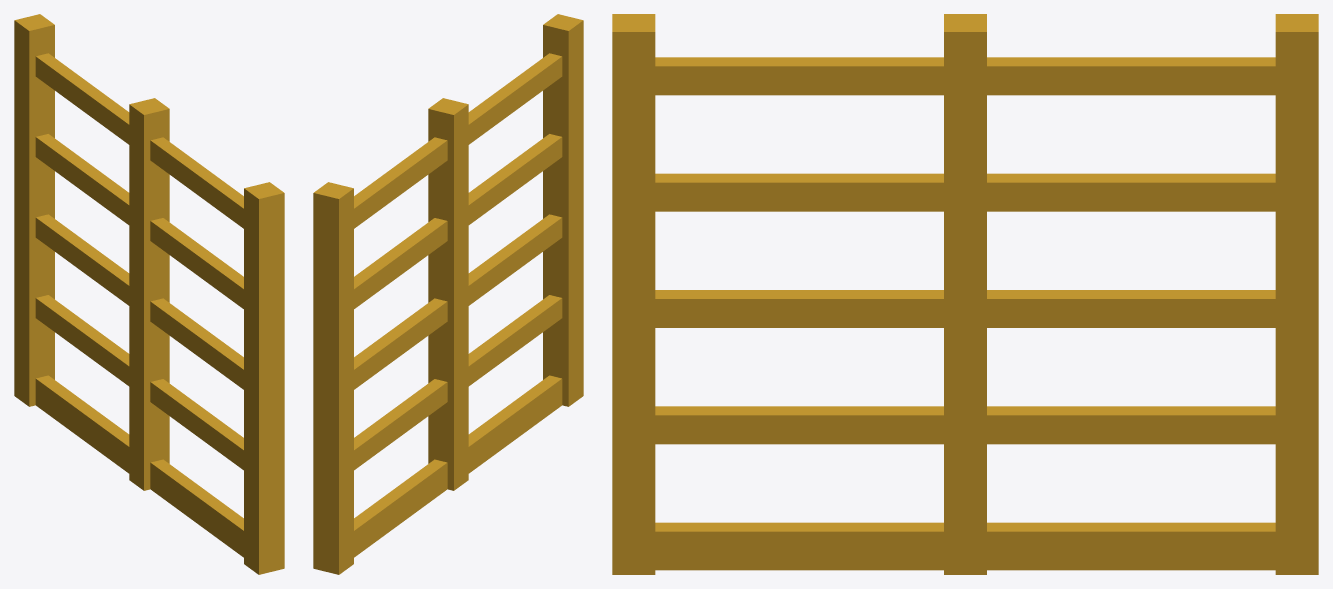
File: log_trailer_headboard.glb
The picture shows the model from 3 angles, left to right: view 1: azimuth 30°, elevation 25°; view 2: azimuth 150°, elevation 25°; view 3: azimuth 270°, elevation 25°; orthographic projection. The views are drawn at different scales.
Parts seen in each view (by area): view 1: body:compound; view 2: body:compound; view 3: body:compound.
Boxes of the visible parts, box(x1,y1,x2,y2) form: body:compound: box(14, 14, 284, 574); body:compound: box(313, 14, 583, 574); body:compound: box(612, 14, 1318, 574).
Size of the model in its own units: 0.125 by 1.75 by 2.06.
